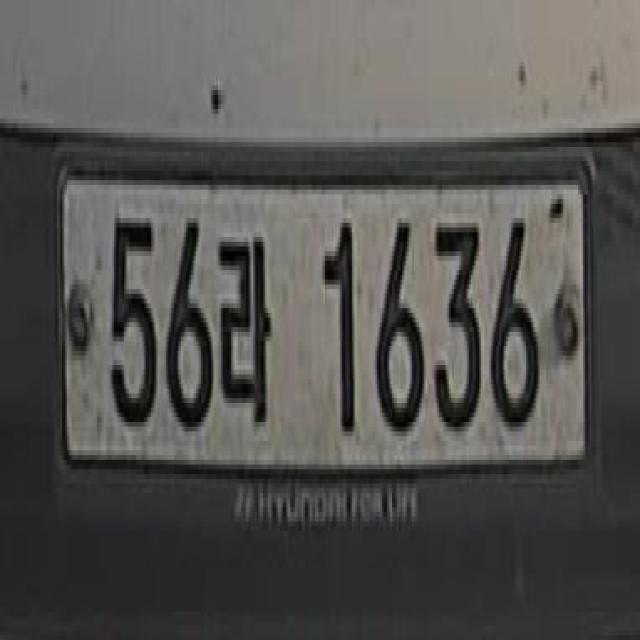illegal_plate: (59, 138, 603, 529)
